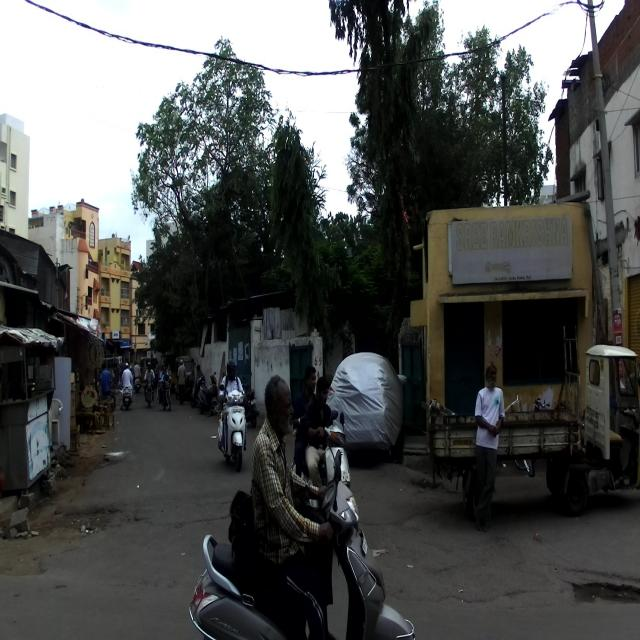car: (326, 351, 408, 461)
scooter: (188, 448, 418, 639), (290, 412, 350, 492), (216, 382, 250, 472)
